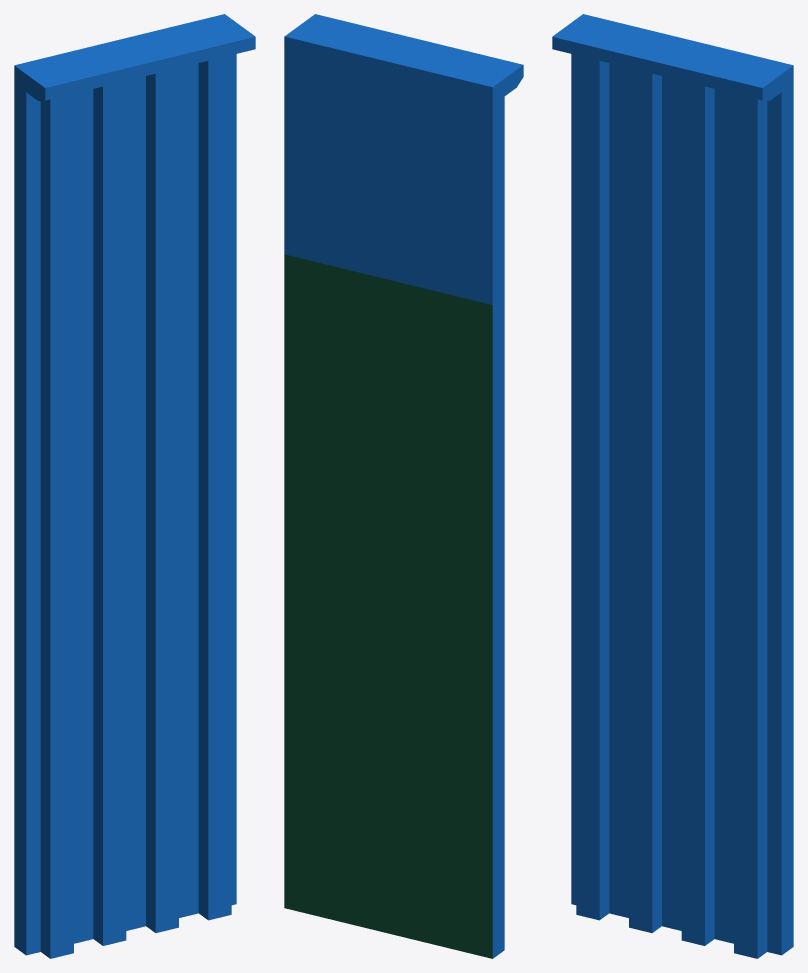
The model's file is T_wooden_wall5.fbx.
The picture shows the model from 3 angles, left to right: view 1: azimuth 30°, elevation 25°; view 2: azimuth 150°, elevation 25°; view 3: azimuth 330°, elevation 25°; orthographic projection.
Visible parts, largest first — view 1: wooden_wall5; view 2: wooden_wall5; view 3: wooden_wall5.
Part boxes in pixels (x1,y1,x2,y2): wooden_wall5: (14, 14, 255, 958); wooden_wall5: (284, 14, 523, 958); wooden_wall5: (552, 14, 793, 958).
Size of the model in its own units: 100 by 400 by 25.56.
